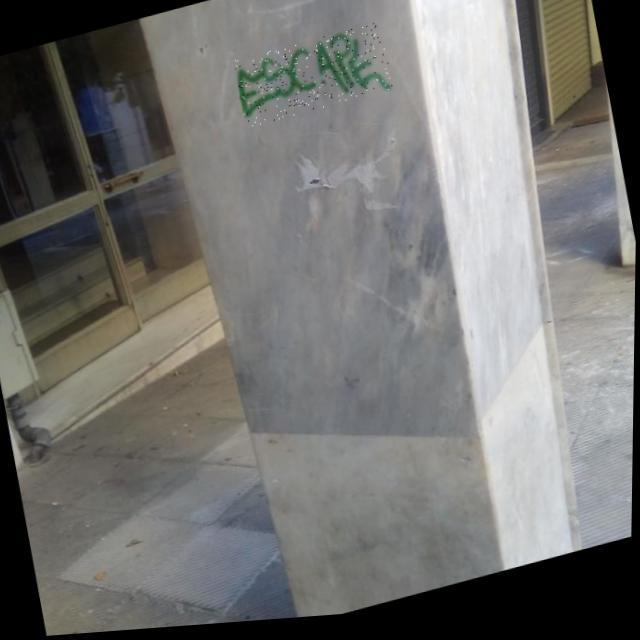-: (233, 27, 394, 132)
